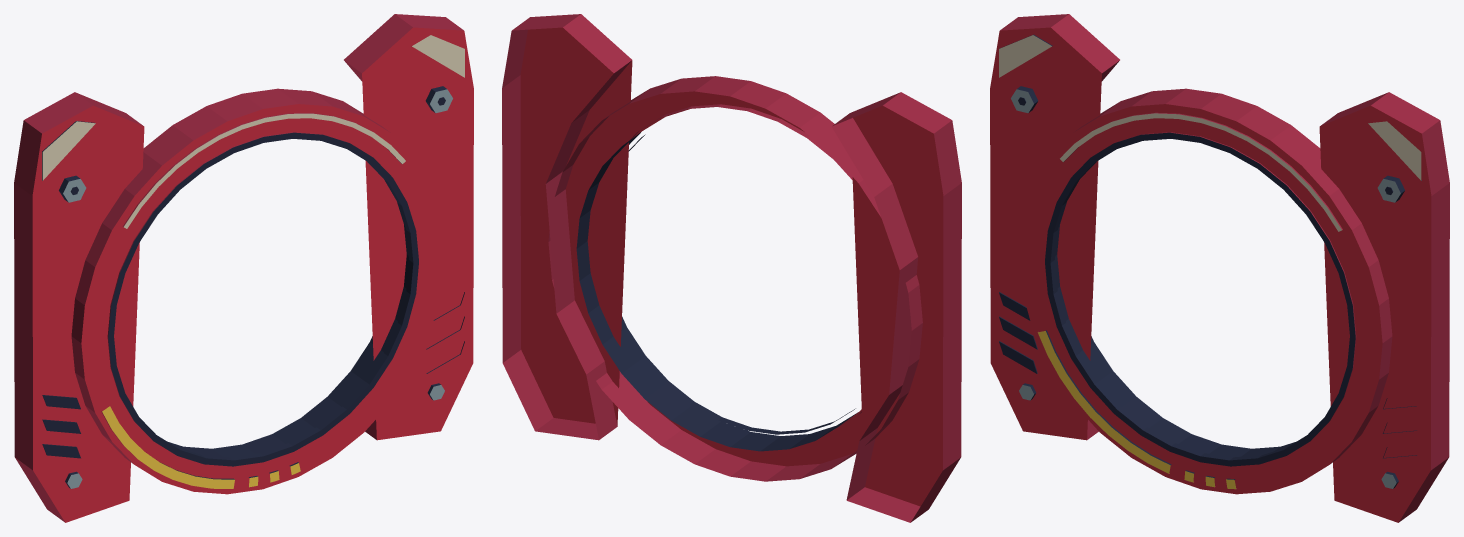
The model's file is ImpellerCheeks.gltf.
3 renders of one model, left to right at view 1: azimuth 30°, elevation 25°; view 2: azimuth 150°, elevation 25°; view 3: azimuth 330°, elevation 25°, orthographic.
Visible parts, largest first — view 1: ImpellerCheeks; view 2: ImpellerCheeks; view 3: ImpellerCheeks.
Boxes of the visible parts, <box> form: ImpellerCheeks: <box>14,14,473,522</box>; ImpellerCheeks: <box>502,14,961,522</box>; ImpellerCheeks: <box>990,14,1449,522</box>.
Size of the model in its own units: 2.07 by 1.86 by 0.239.
